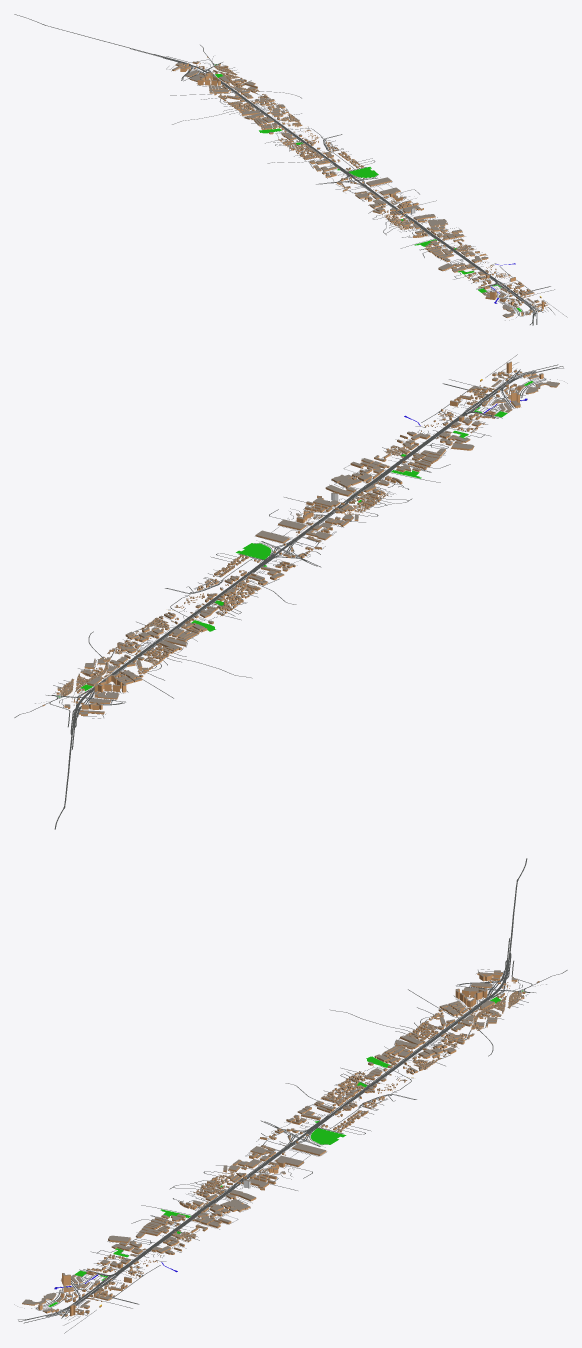
Rendered from bicutantoAlabang.fbx.
The picture shows the model from 3 angles, top to bottom: view 1: azimuth 30°, elevation 25°; view 2: azimuth 150°, elevation 25°; view 3: azimuth 330°, elevation 25°; orthographic projection. The views are drawn at different scales.
Parts seen in each view (by area): view 1: map_27.osm_buildings, map_27.osm_roads_motorway, map_27.osm_roads_residential, map_27.osm_roads_service, map_27.osm_roads_primary, map_27.osm_vegetation; view 2: map_27.osm_buildings, map_27.osm_roads_motorway, map_27.osm_roads_residential, map_27.osm_roads_service, map_27.osm_roads_primary, map_27.osm_vegetation; view 3: map_27.osm_buildings, map_27.osm_roads_motorway, map_27.osm_roads_service, map_27.osm_roads_residential, map_27.osm_roads_primary, map_27.osm_vegetation.
Part boxes in pixels (<box>): map_27.osm_buildings: <box>172,56,547,317</box>; map_27.osm_roads_motorway: <box>14,14,537,325</box>; map_27.osm_roads_residential: <box>201,67,554,308</box>; map_27.osm_roads_service: <box>166,62,567,317</box>; map_27.osm_roads_primary: <box>166,56,509,288</box>; map_27.osm_vegetation: <box>215,64,521,311</box>; map_27.osm_buildings: <box>42,361,559,715</box>; map_27.osm_roads_motorway: <box>54,364,563,829</box>; map_27.osm_roads_residential: <box>53,372,513,696</box>; map_27.osm_roads_service: <box>53,354,538,718</box>; map_27.osm_roads_primary: <box>46,401,498,727</box>; map_27.osm_vegetation: <box>57,381,533,697</box>; map_27.osm_buildings: <box>22,970,539,1316</box>; map_27.osm_roads_motorway: <box>18,858,527,1323</box>; map_27.osm_roads_service: <box>42,969,530,1333</box>; map_27.osm_roads_residential: <box>68,992,528,1315</box>; map_27.osm_roads_primary: <box>83,960,535,1284</box>; map_27.osm_vegetation: <box>48,990,525,1306</box>.
Bounding box in the file's own units: 184840 × 10220 × 1104897.
